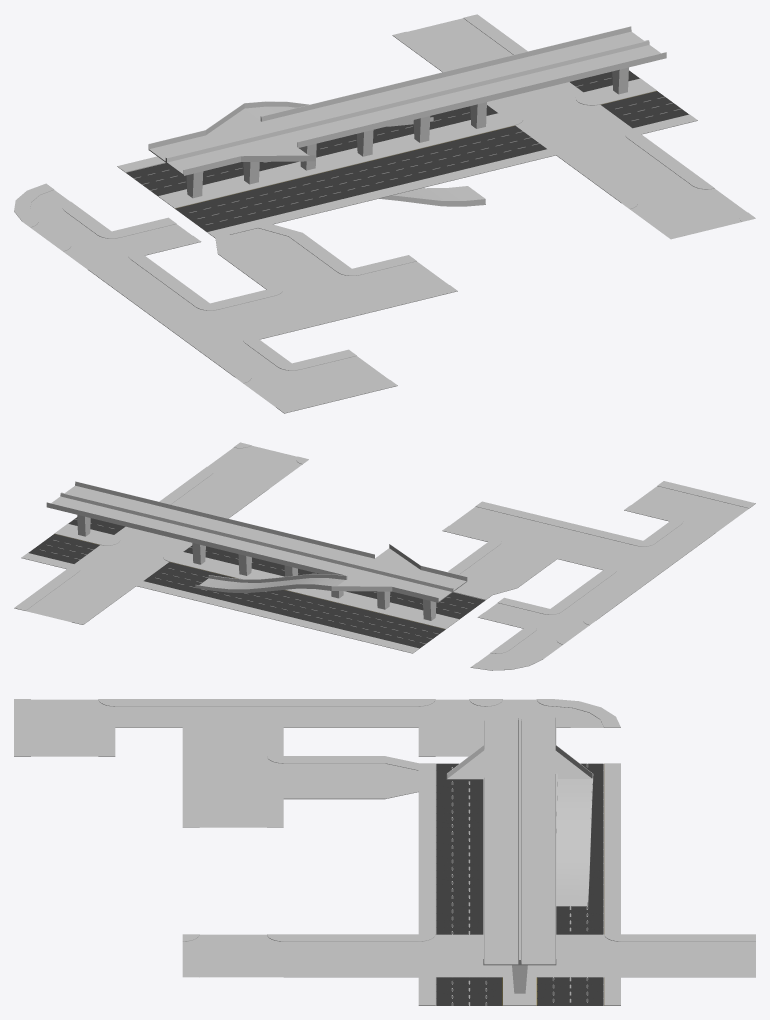
File: Modular_Road_and_Highway_Set.FBX
3 views of the same model, one above another, from view 1: azimuth 30°, elevation 25°; view 2: azimuth 150°, elevation 25°; view 3: azimuth 270°, elevation 25° (orthographic). The views are drawn at different scales.
Parts seen in each view (by area): view 1: ExpresswayXIntersectionBoulevard, ExpresswayStraight, ExpresswayExit, ExpresswayStraight002, ExpresswayStraight005, ExpresswayStraight004, ExpresswayStraight003, ExpresswayStraight001, BoulevardXIntersection, BoulevardTIntersection, BoulevardStraight002, BoulevardStraight004 (+18 smaller); view 2: ExpresswayXIntersectionBoulevard, ExpresswayStraight, ExpresswayExit, ExpresswayStraight005, ExpresswayStraight004, ExpresswayStraight001, ExpresswayStraight003, ExpresswayStraight002, BoulevardTIntersection, BoulevardXIntersection, RampEntry, BoulevardStraight007 (+17 smaller); view 3: ExpresswayXIntersectionBoulevard, ExpresswayStraight005, ExpresswayExit, ExpresswayStraight004, ExpresswayStraight003, ExpresswayStraight002, ExpresswayStraight001, RampEntry, BoulevardXIntersection, BoulevardTIntersection, ExpresswayStraight, BoulevardStraight (+17 smaller).
Boxes of the visible parts, bbox=[...] form: ExpresswayXIntersectionBoulevard: bbox=[487, 40, 640, 154]; ExpresswayStraight: bbox=[117, 130, 271, 238]; ExpresswayExit: bbox=[203, 103, 328, 224]; ExpresswayStraight002: bbox=[316, 88, 442, 196]; ExpresswayStraight005: bbox=[570, 26, 697, 134]; ExpresswayStraight004: bbox=[430, 61, 555, 169]; ExpresswayStraight003: bbox=[373, 75, 498, 182]; ExpresswayStraight001: bbox=[262, 102, 385, 210]; BoulevardXIntersection: bbox=[622, 182, 755, 239]; BoulevardTIntersection: bbox=[267, 269, 400, 325]; BoulevardStraight002: bbox=[352, 255, 457, 304]; BoulevardStraight004: bbox=[556, 134, 673, 179]; ExpresswayXIntersectionBoulevard: bbox=[67, 492, 192, 585]; ExpresswayStraight: bbox=[367, 565, 492, 653]; ExpresswayExit: bbox=[321, 544, 422, 642]; ExpresswayStraight005: bbox=[21, 481, 125, 569]; ExpresswayStraight004: bbox=[136, 509, 238, 597]; ExpresswayStraight001: bbox=[274, 543, 374, 630]; ExpresswayStraight003: bbox=[182, 521, 284, 608]; ExpresswayStraight002: bbox=[228, 532, 328, 619]; BoulevardTIntersection: bbox=[488, 512, 596, 558]; BoulevardXIntersection: bbox=[200, 442, 308, 488]; RampEntry: bbox=[195, 573, 347, 592]; BoulevardStraight007: bbox=[14, 588, 109, 624]; ExpresswayXIntersectionBoulevard: bbox=[418, 887, 620, 977]; ExpresswayStraight005: bbox=[418, 930, 620, 1005]; ExpresswayExit: bbox=[418, 745, 620, 820]; ExpresswayStraight004: bbox=[418, 859, 620, 934]; ExpresswayStraight003: bbox=[418, 830, 620, 906]; ExpresswayStraight002: bbox=[418, 802, 620, 877]; ExpresswayStraight001: bbox=[418, 773, 620, 848]; RampEntry: bbox=[555, 773, 593, 906]; BoulevardXIntersection: bbox=[182, 934, 283, 977]; BoulevardTIntersection: bbox=[182, 756, 283, 799]; ExpresswayStraight: bbox=[418, 716, 620, 791]; BoulevardStraight: bbox=[283, 756, 351, 799].
Bounding box in the file's own units: 423 × 60.37 × 433.
